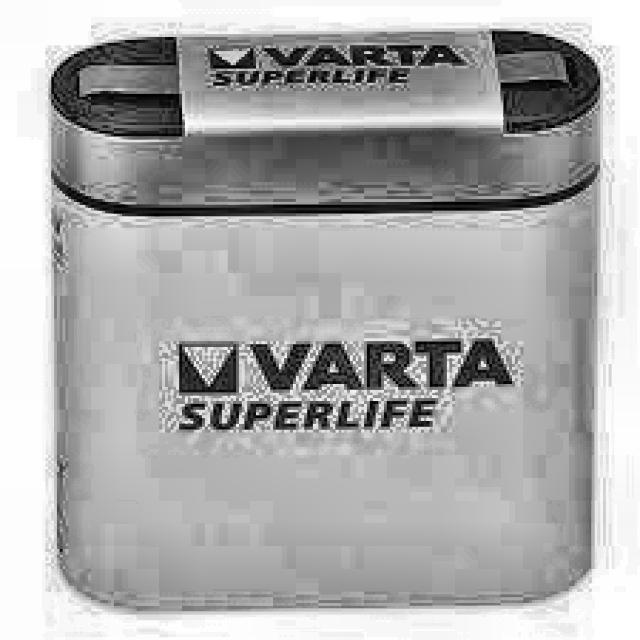Battery: (57, 29, 597, 612)
